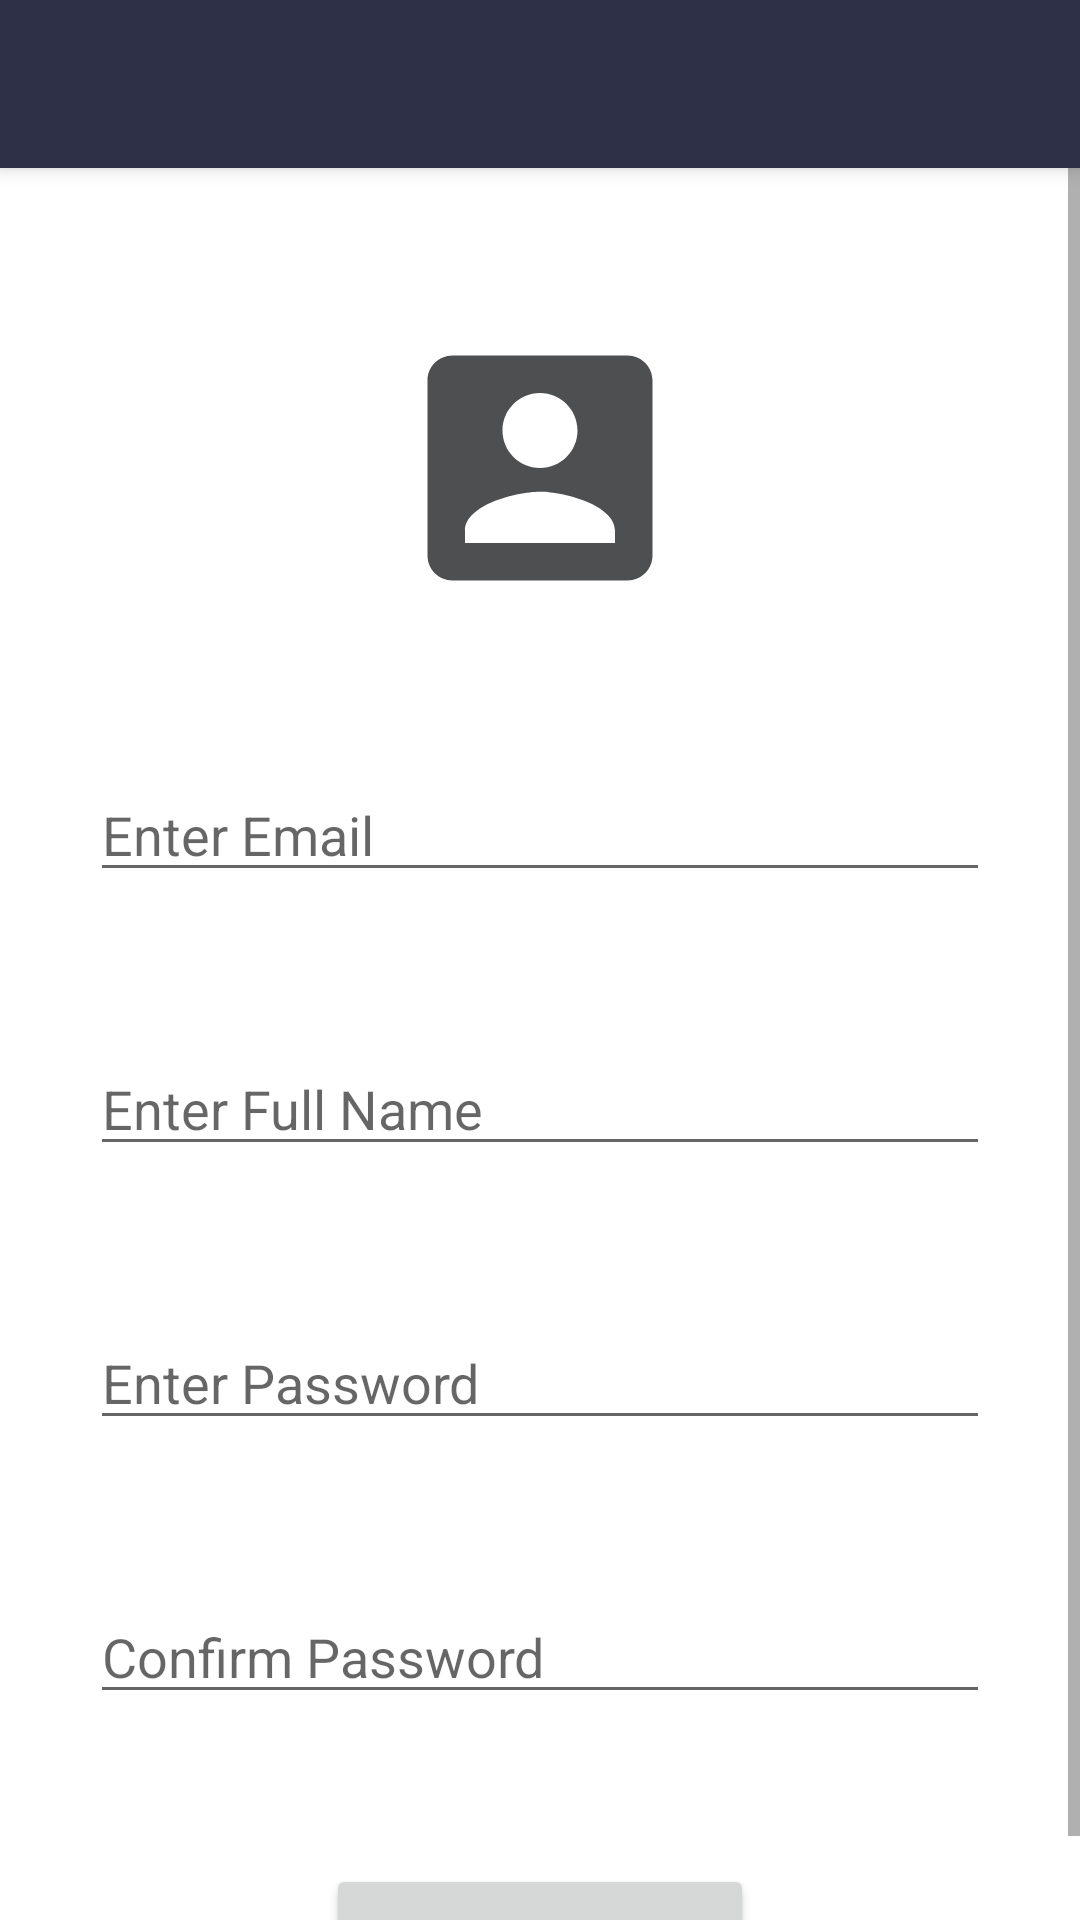

Point at icon controls on the screen. Image size 1080x1920, points as [x,y].
Profile Image: [540,468]
